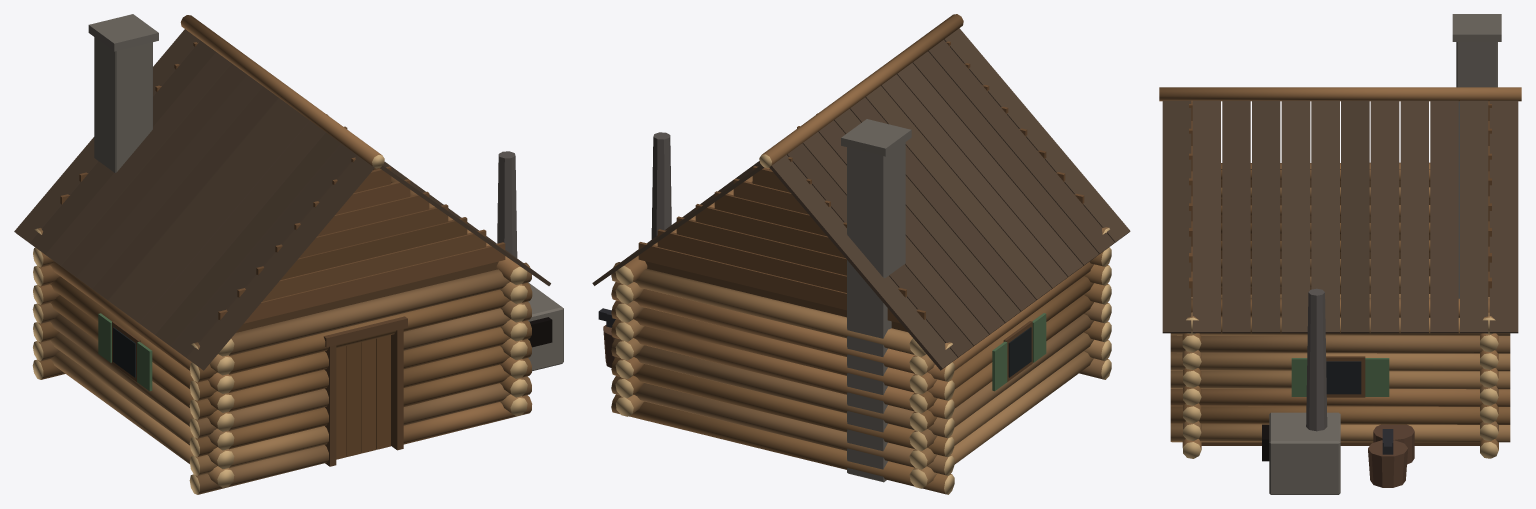
File: forge_1.glb
The picture shows the model from 3 angles, left to right: view 1: azimuth 30°, elevation 25°; view 2: azimuth 150°, elevation 25°; view 3: azimuth 270°, elevation 25°; orthographic projection. The views are drawn at different scales.
Visible parts, largest first — view 1: forge1_log, forge1_roof, forge1_wood, forge1_stone, forge1_glass, forge1_soot; view 2: forge1_log, forge1_roof, forge1_wood, forge1_stone, forge1_glass; view 3: forge1_roof, forge1_log, forge1_stone, forge1_wood, forge1_glass.
Part boxes in pixels (x1,y1,x2,y2): forge1_log: (32, 15, 532, 494); forge1_roof: (14, 29, 550, 370); forge1_wood: (60, 42, 505, 466); forge1_stone: (88, 14, 563, 371); forge1_glass: (113, 327, 135, 377); forge1_soot: (528, 317, 552, 347); forge1_log: (611, 14, 1111, 494); forge1_roof: (592, 28, 1130, 370); forge1_wood: (603, 41, 1084, 391); forge1_stone: (651, 119, 911, 482); forge1_glass: (1008, 327, 1031, 377); forge1_roof: (1162, 100, 1518, 333); forge1_log: (1159, 87, 1521, 458); forge1_stone: (1269, 14, 1501, 494); forge1_wood: (1189, 101, 1491, 487); forge1_glass: (1326, 361, 1361, 394).
Size of the model in its own units: 7.72 by 5.91 by 6.1.
